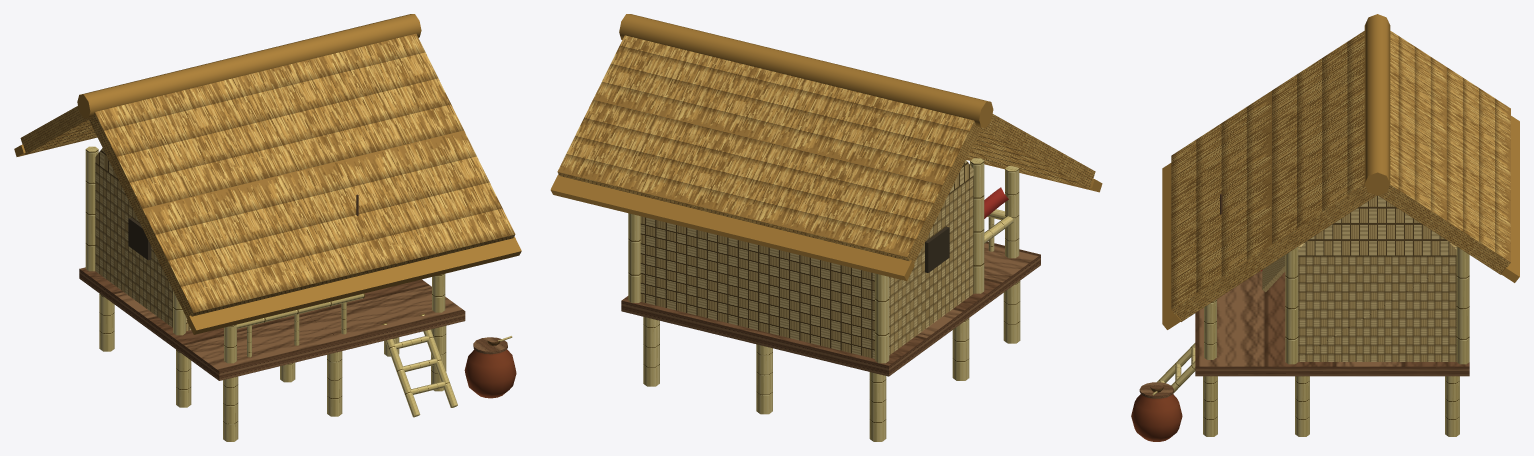
Rendered from nha_la.glb.
3 views of the same model, side by side, from view 1: azimuth 30°, elevation 25°; view 2: azimuth 150°, elevation 25°; view 3: azimuth 270°, elevation 25° (orthographic). The views are drawn at different scales.
Visible parts, largest first — view 1: nha_la; view 2: nha_la; view 3: nha_la.
Part boxes in pixels (x1,y1,x2,y2): nha_la: [14, 14, 521, 441]; nha_la: [550, 14, 1102, 441]; nha_la: [1131, 14, 1519, 441].
Bounding box in the file's own units: 1.75 × 1.5 × 1.81.
Materials: 10 (4 with a texture image).
